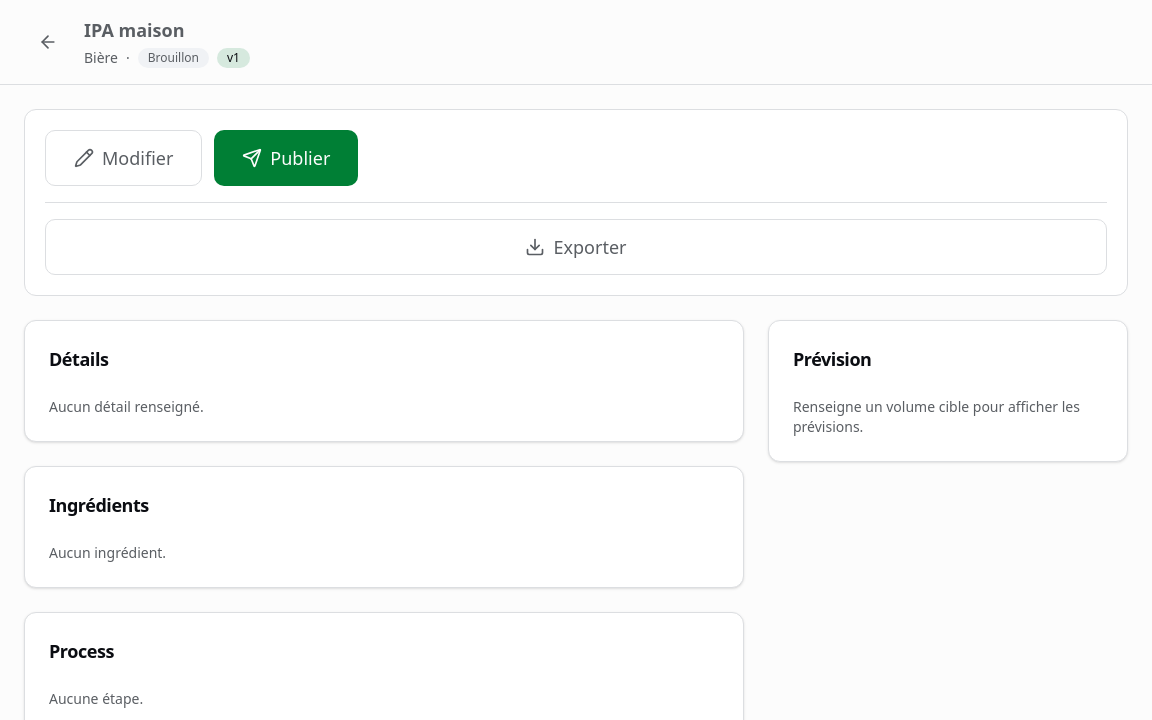
Test: page détail — publication › un brouillon BEER publie sans erreur puis expose les actions de version
Click the button "Publier": (286, 158) [214,130,358,186]
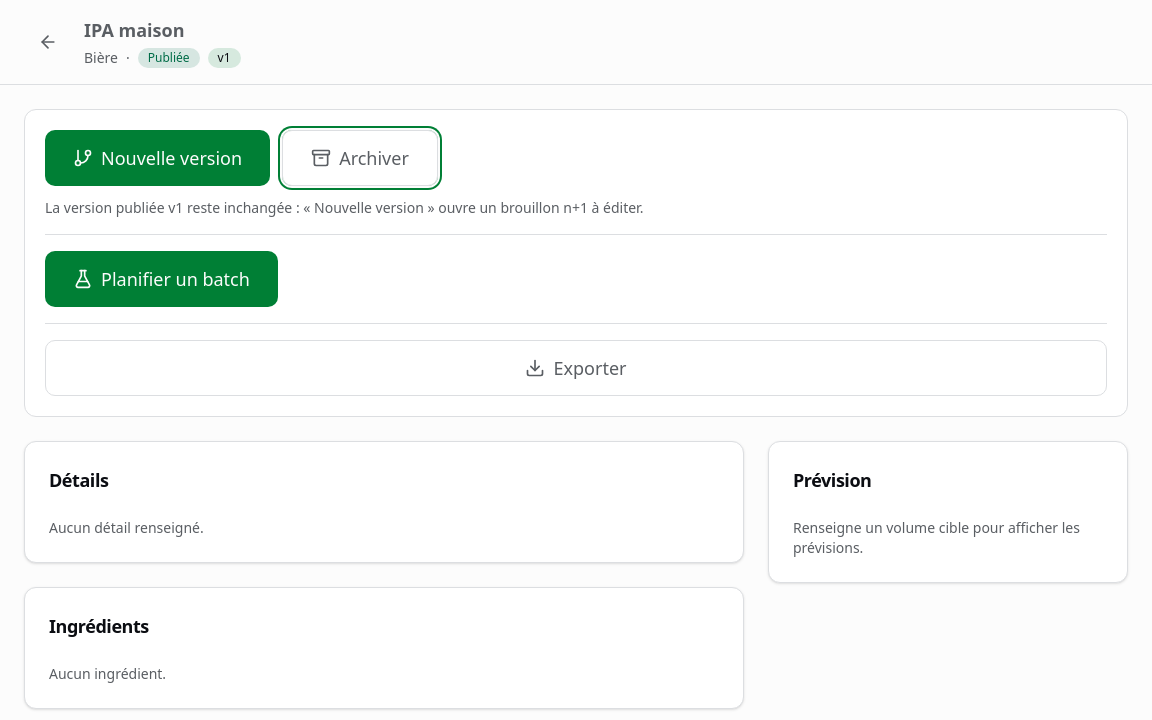
Check: the button "Nouvelle version" is shown, box [45,130,270,186]
Check: the button "Archiver" is shown, box [282,130,438,186]
Check: the button "Publier" is gone
